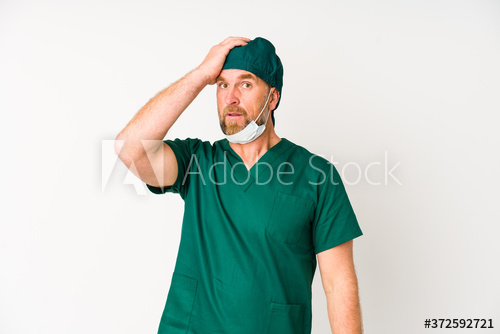mask_weared_incorrect: (214, 63, 282, 146)
